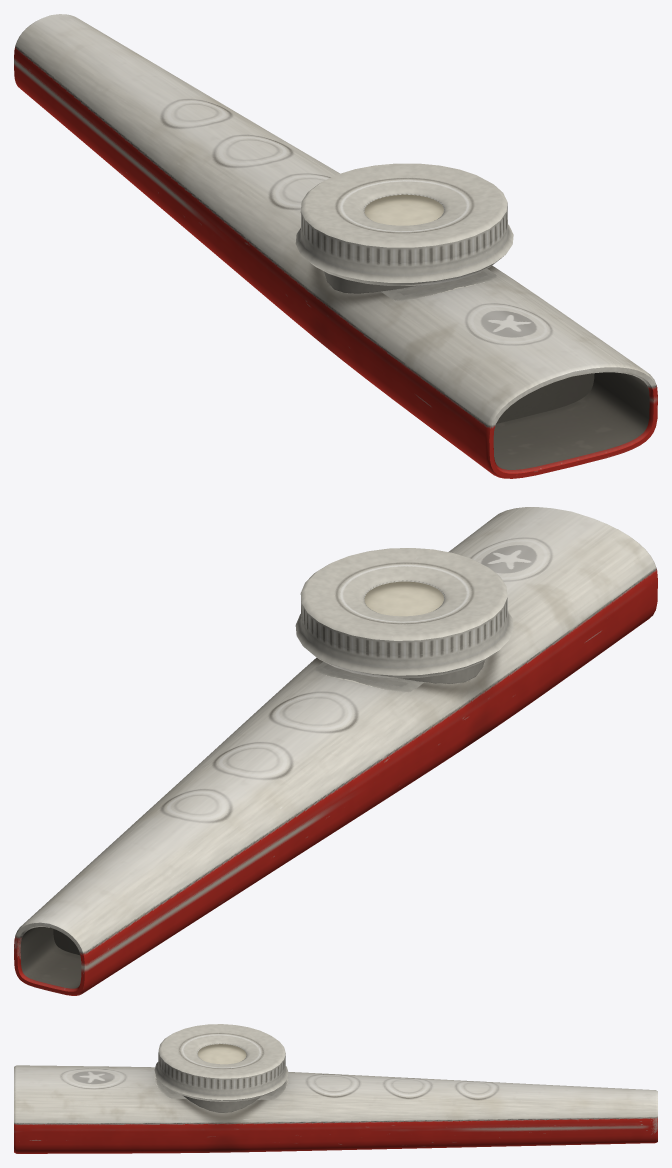
The model's file is Kazoo.fbx.
The picture shows the model from 3 angles, top to bottom: view 1: azimuth 30°, elevation 25°; view 2: azimuth 150°, elevation 25°; view 3: azimuth 270°, elevation 25°; orthographic projection. The views are drawn at different scales.
Visible parts, largest first — view 1: Kazoo_Body, Kazoo_Skin; view 2: Kazoo_Body, Kazoo_Skin; view 3: Kazoo_Body, Kazoo_Skin.
Boxes of the visible parts, x1,y1,x2,y2 form: Kazoo_Body: (14,14,657,478); Kazoo_Skin: (364,194,443,225); Kazoo_Body: (14,507,657,995); Kazoo_Skin: (364,581,443,616); Kazoo_Body: (14,1024,657,1153); Kazoo_Skin: (197,1044,246,1064).
Size of the model in its own units: 0.0992 by 0.0721 by 0.4759.
Materials: 1 (1 with a texture image).
